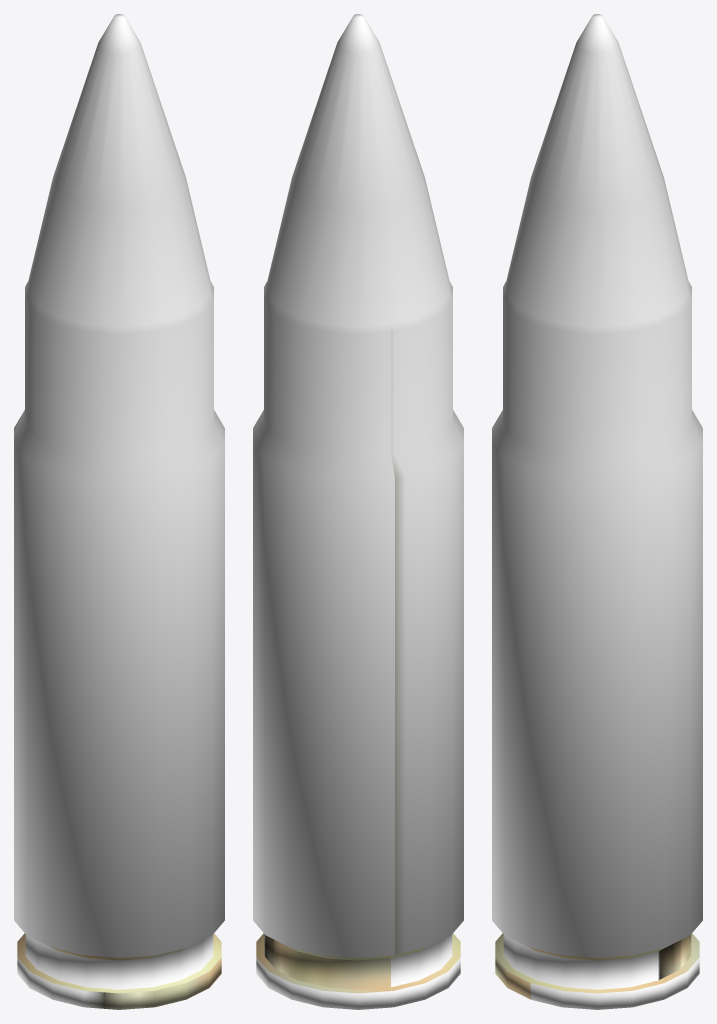
File: P90 Bullet.FBX
The picture shows the model from 3 angles, left to right: view 1: azimuth 30°, elevation 25°; view 2: azimuth 150°, elevation 25°; view 3: azimuth 270°, elevation 25°; orthographic projection.
Visible parts, largest first — view 1: Cylinder01; view 2: Cylinder01; view 3: Cylinder01.
Part boxes in pixels (left/top/right/bottom): Cylinder01: left=14, top=14, right=224, bottom=1009; Cylinder01: left=253, top=14, right=463, bottom=1009; Cylinder01: left=492, top=14, right=702, bottom=1009.
Size of the model in its own units: 56.62 by 277 by 55.76.
